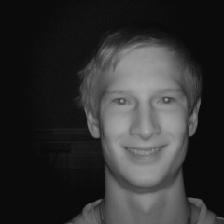happy: (73, 29, 210, 192)
